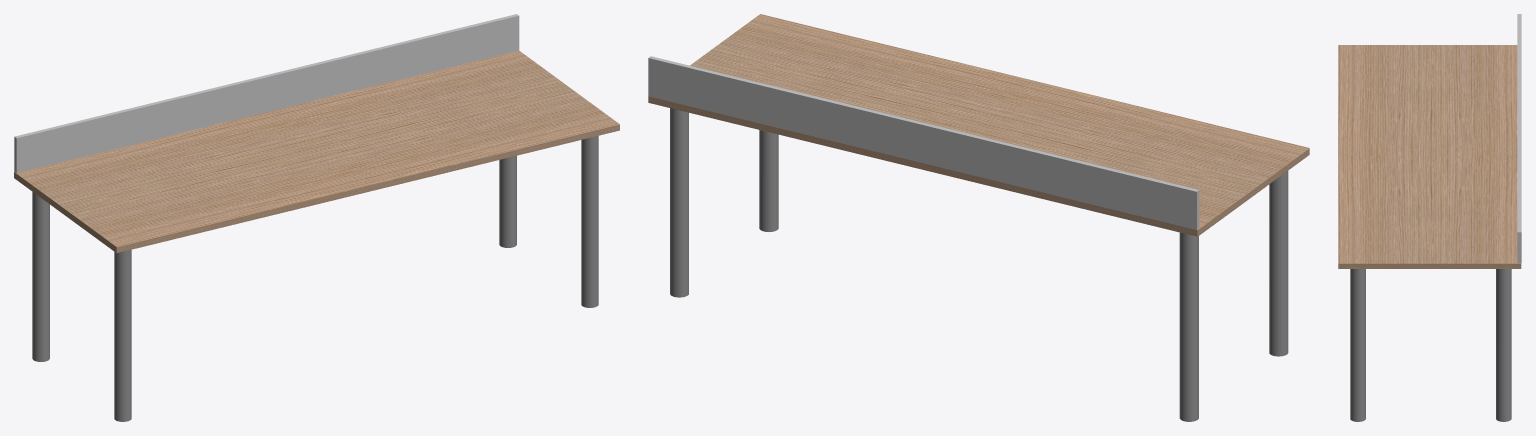
File: Table 2.FBX
3 views of the same model, side by side, from view 1: azimuth 30°, elevation 25°; view 2: azimuth 150°, elevation 25°; view 3: azimuth 270°, elevation 25° (orthographic). The views are drawn at different scales.
Parts seen in each view (by area): view 1: Table 2; view 2: Table 2; view 3: Table 2.
Boxes of the visible parts, x1,y1,x2,y2 form: Table 2: [14, 14, 619, 421]; Table 2: [648, 14, 1309, 421]; Table 2: [1338, 14, 1521, 421].
Bounding box in the file's own units: 203 × 84.31 × 71.98.
